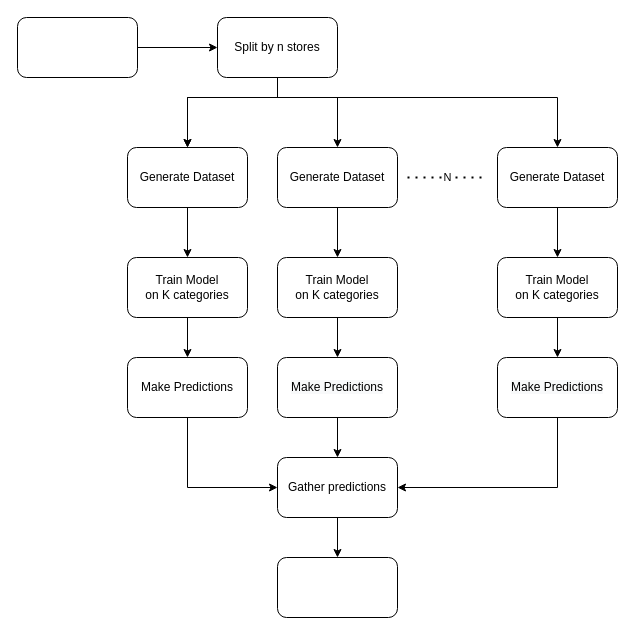
Image size: 635x635. Some labels were removed from this diagram. The centre of each missing label's shape, as x and y in pixels:
"Submission" goes at (x=337, y=587).
"Train dataset" goes at (x=77, y=47).
